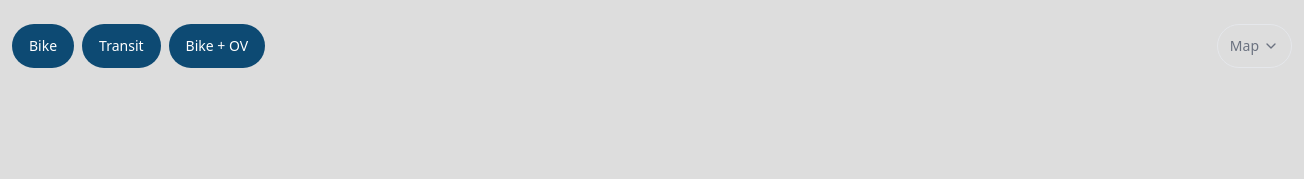
it: the phone panel drops the map-only tools when the map is hidden
The width and height of the screenshot is (1304, 179).
Click the button with aria-label "map options" at coordinates (1254, 46), box x1=1217 y1=24 x2=1292 y2=68
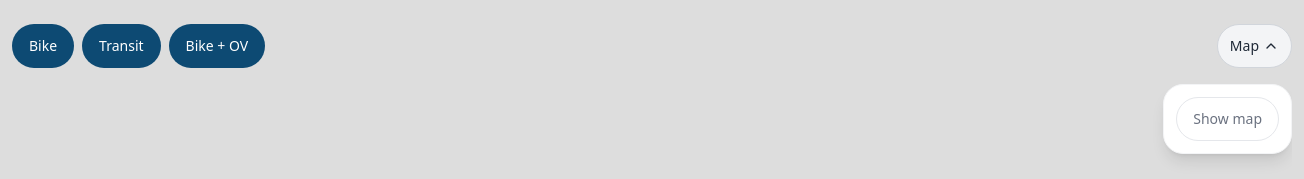
Now the button "Show map" is shown, box x1=1176 y1=97 x2=1279 y2=141
